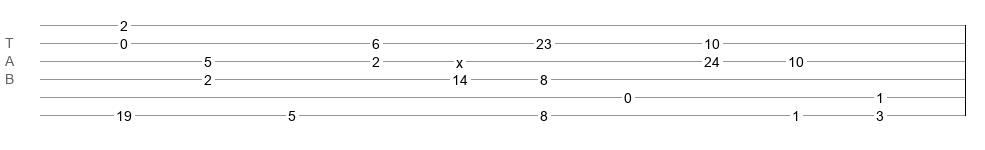0: (120, 36, 128, 46), (624, 90, 632, 100)
1: (792, 108, 800, 118), (876, 90, 884, 100)
10: (704, 36, 720, 46), (788, 54, 804, 64)
14: (452, 72, 468, 82)
19: (116, 108, 132, 118)
2: (120, 18, 128, 28), (204, 72, 212, 82), (372, 54, 380, 64)
23: (536, 36, 552, 46)
24: (704, 54, 720, 64)
3: (876, 108, 884, 118)
5: (204, 54, 212, 64), (288, 108, 296, 118)
6: (372, 36, 380, 46)
8: (540, 108, 548, 118), (540, 72, 548, 82)
x: (456, 55, 463, 63)
